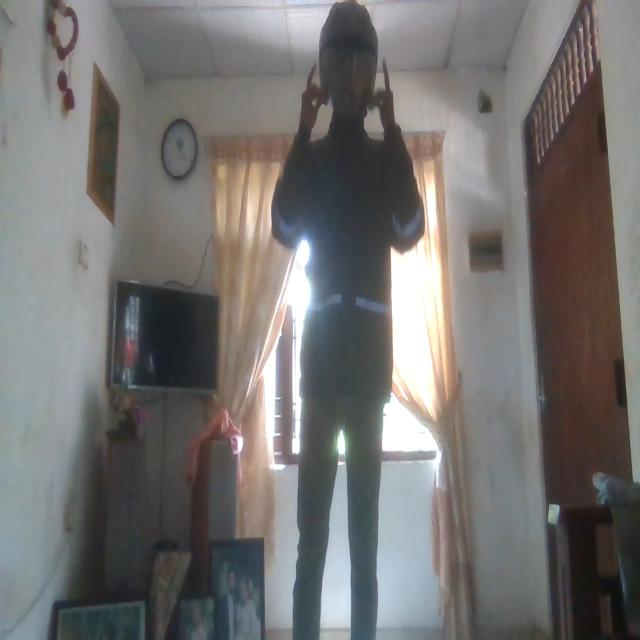Helmet_Wearer: (314, 3, 382, 134)
Jacket_Wearer: (271, 118, 424, 419)
Person: (274, 9, 419, 640)
